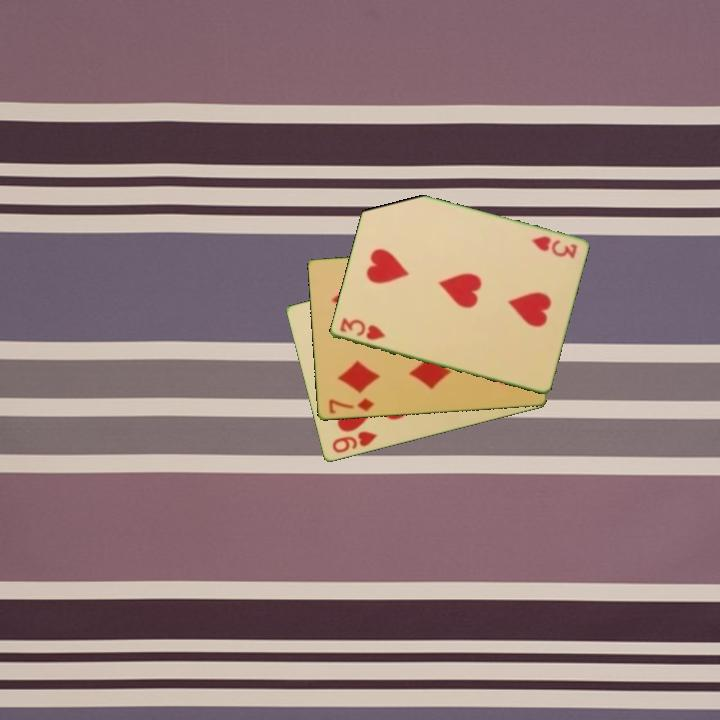3h: (528, 233, 580, 262), (336, 315, 388, 343)
7d: (325, 394, 377, 417)
9h: (328, 428, 380, 456)
